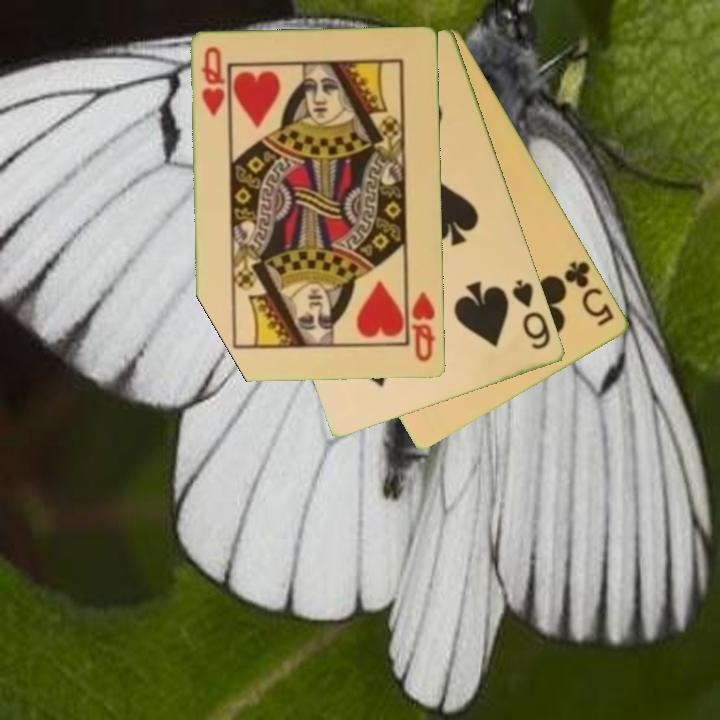5c: (561, 257, 617, 330)
6s: (509, 276, 554, 353)
Qh: (405, 284, 439, 365), (198, 43, 228, 120)
